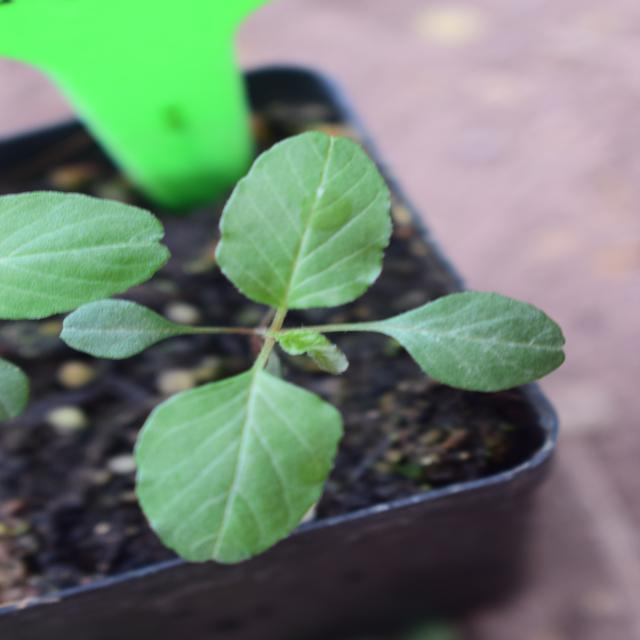pigweed: (80, 86, 498, 573)
